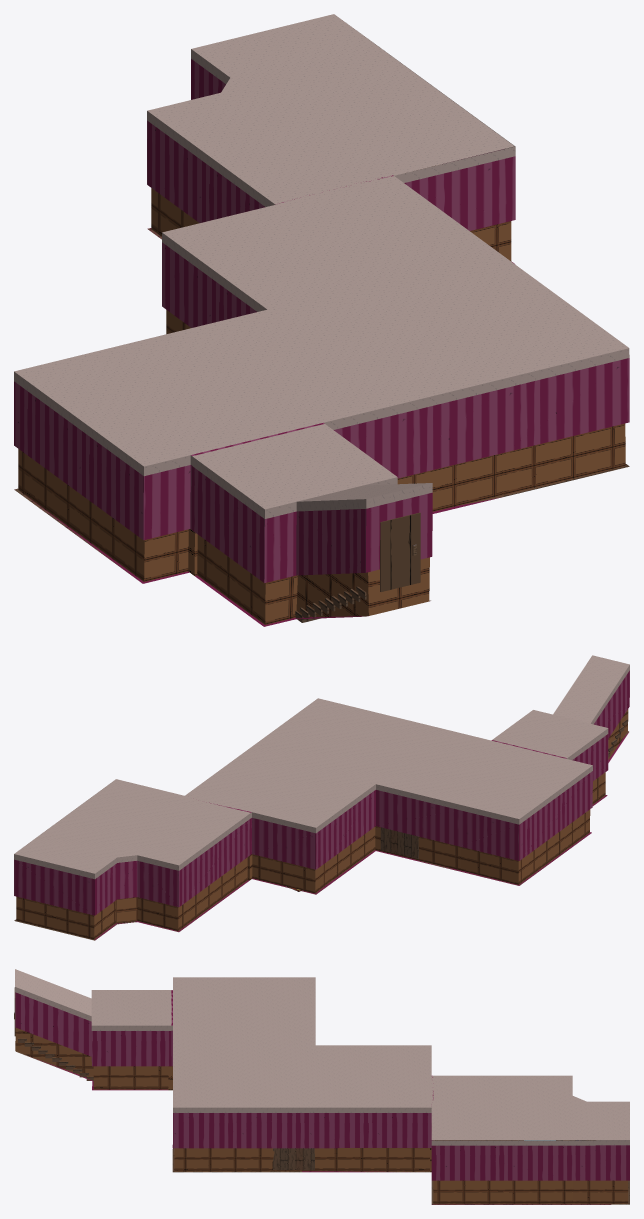
File: burdel level 1.fbx
3 renders of one model, top to bottom at view 1: azimuth 30°, elevation 25°; view 2: azimuth 150°, elevation 25°; view 3: azimuth 270°, elevation 25°, orthographic. The views are drawn at different scales.
Visible parts, largest first — view 1: SUFITY, sciany.001, drzwi.010, podlogi.001, sciany.002; view 2: SUFITY, sciany.001, Cube.001; view 3: SUFITY, sciany.001, Cube.003, podlogi, podlogi.001.
Boxes of the visible parts, x1,y1,x2,y2 form: SUFITY: (14,14,628,509); sciany.001: (14,36,629,626); drzwi.010: (380,512,420,591); podlogi.001: (295,586,366,622); sciany.002: (188,422,324,575); SUFITY: (14,655,629,873); sciany.001: (14,665,629,940); Cube.001: (380,827,418,859); SUFITY: (15,969,629,1139); sciany.001: (15,987,629,1204); Cube.003: (272,1148,314,1169); podlogi: (15,1051,629,1204); podlogi.001: (18,1038,93,1080).
Bounding box in the file's own units: 2276 × 621 × 3643.
Materials: 15 (15 with a texture image).
